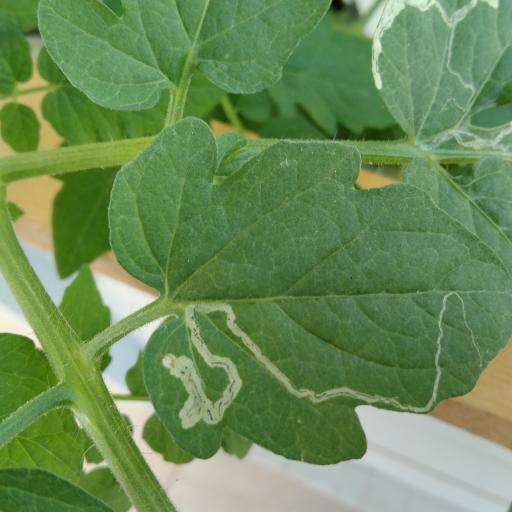disease_tomato: (106, 116, 512, 468)
